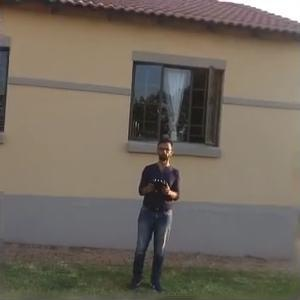follow: (123, 133, 183, 295)
